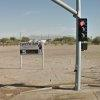Traffic light: (69, 12, 99, 51)
